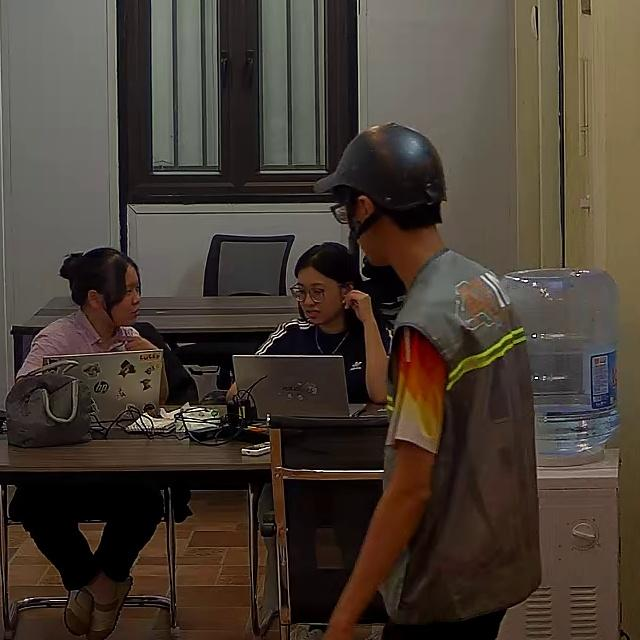helmet: (311, 121, 448, 226)
no_helmet: (59, 247, 136, 309), (292, 241, 360, 299)
none: (251, 317, 384, 407), (16, 311, 142, 384)
vest: (378, 253, 540, 625)
